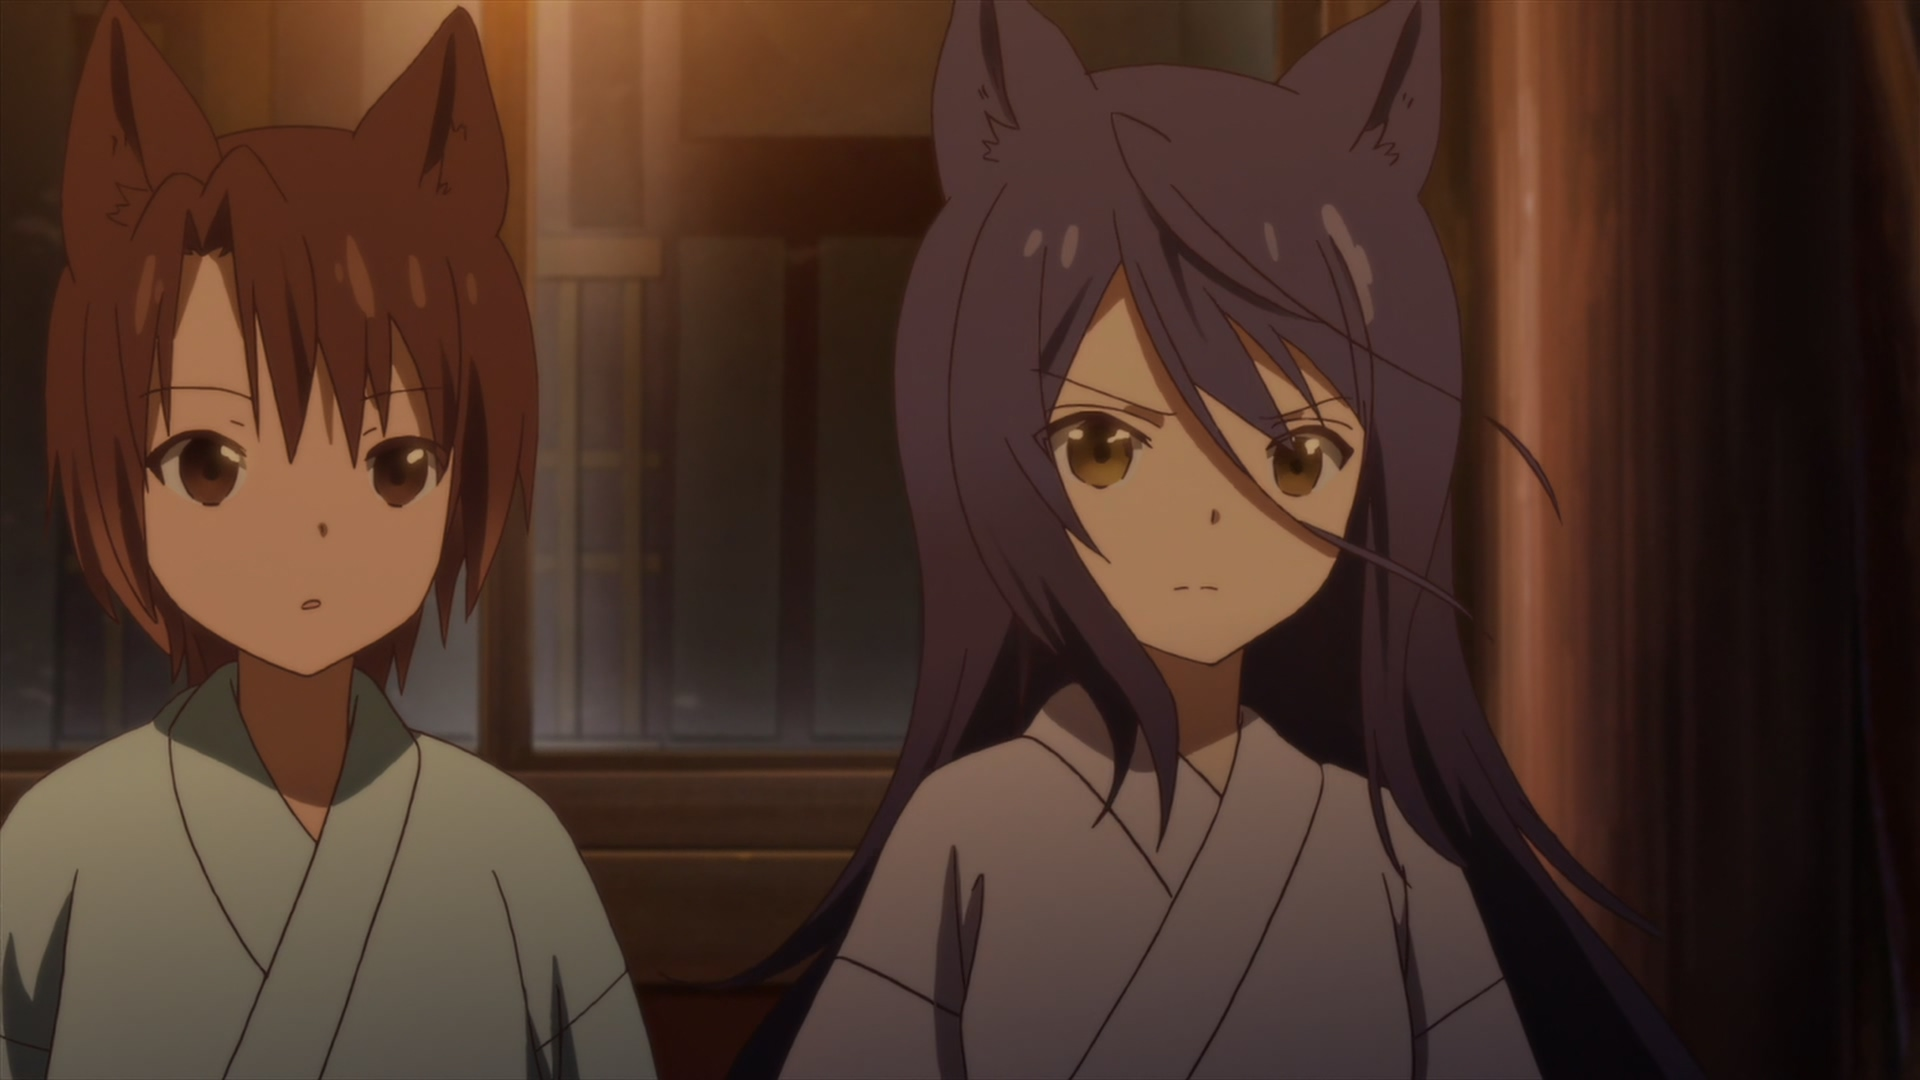枣: (1, 1, 657, 1080)
皋: (665, 1, 1705, 1080)
